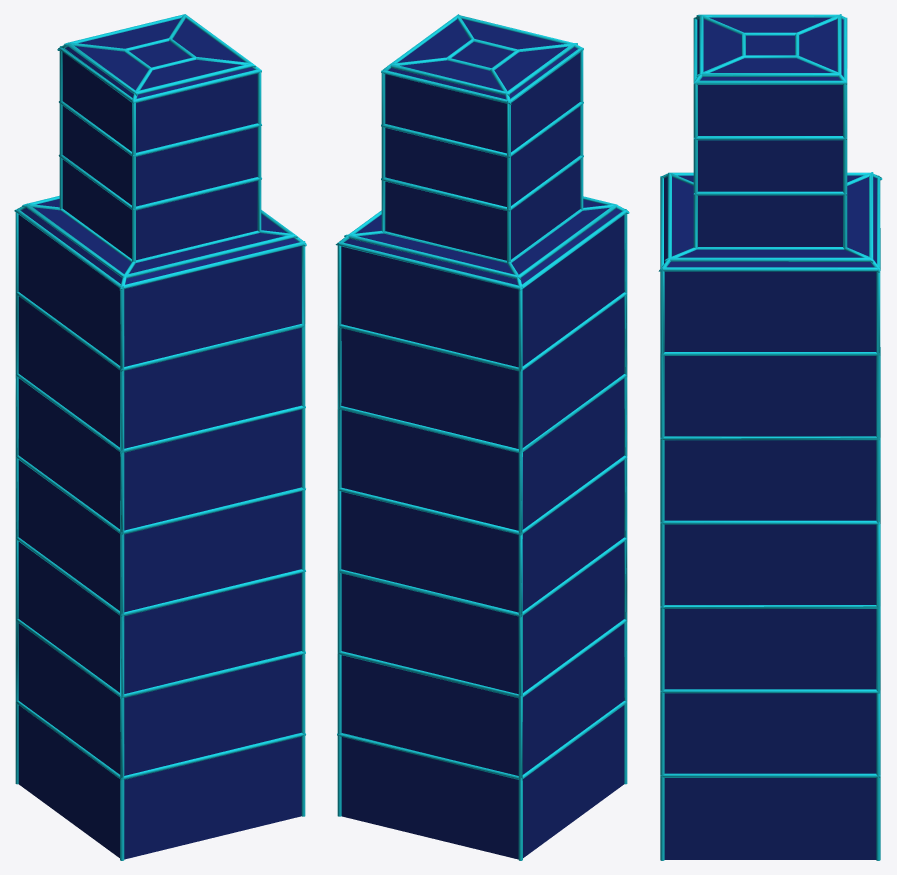
Rendered from Torre03_Mapa01.FBX.
3 renders of one model, left to right at view 1: azimuth 30°, elevation 25°; view 2: azimuth 150°, elevation 25°; view 3: azimuth 270°, elevation 25°, orthographic. The views are drawn at different scales.
Parts seen in each view (by area): view 1: Box007, Shape007; view 2: Box007, Shape007; view 3: Box007, Shape007.
Part boxes in pixels (box(x1,y1,x2,y2)): Box007: box(18, 18, 301, 859); Shape007: box(14, 14, 306, 860); Box007: box(341, 19, 624, 859); Shape007: box(335, 14, 629, 860); Box007: box(664, 17, 876, 859); Shape007: box(658, 14, 882, 860).
Size of the model in its own units: 104 by 394 by 104.
